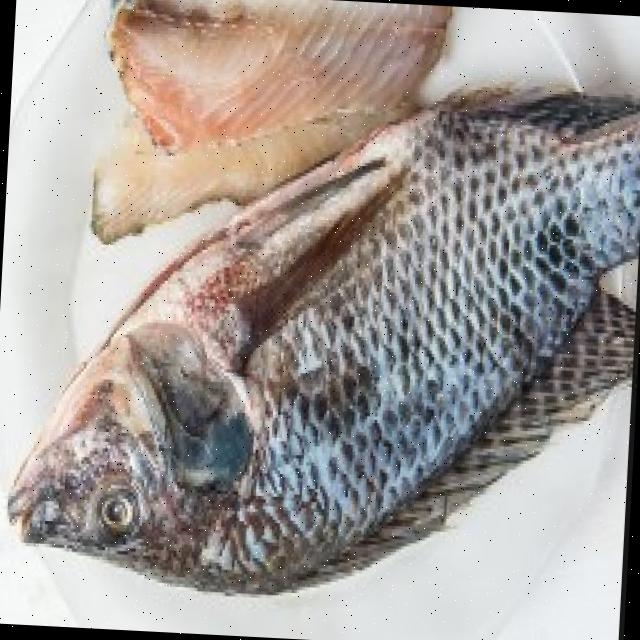ikan: (1, 60, 640, 623)
